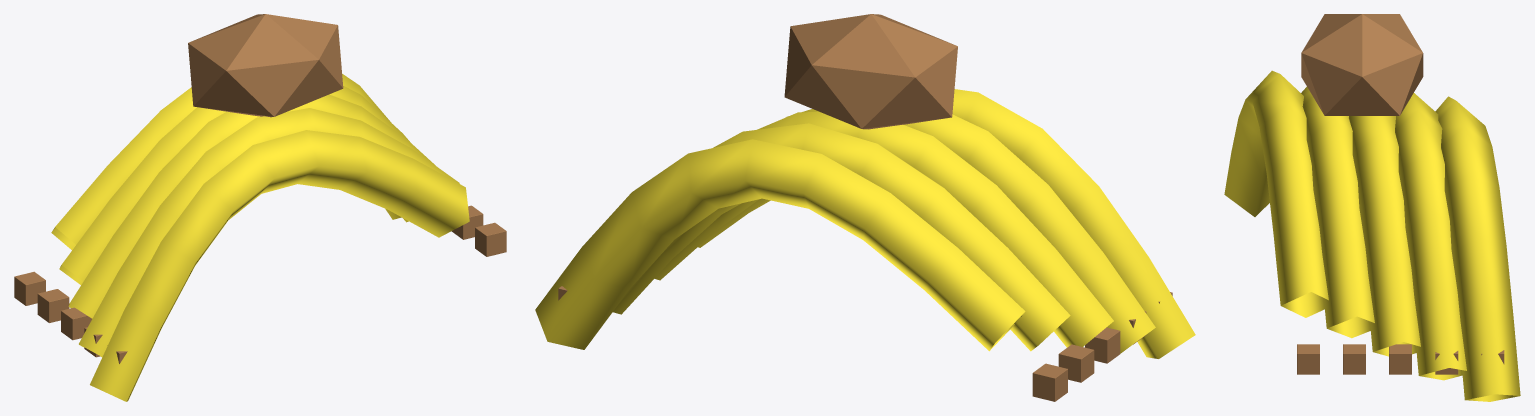
The model's file is banana-bunch.glb.
The picture shows the model from 3 angles, left to right: view 1: azimuth 30°, elevation 25°; view 2: azimuth 150°, elevation 25°; view 3: azimuth 270°, elevation 25°; orthographic projection. The views are drawn at different scales.
Parts seen in each view (by area): view 1: curved low poly banana, brown banana crown, curved low poly banana.001, curved low poly banana.002, curved low poly banana.003, curved low poly banana.004, banana dark tip.001, banana dark tip.006, banana dark tip.008, banana dark tip.004, banana dark tip.003; view 2: curved low poly banana.004, brown banana crown, curved low poly banana.003, curved low poly banana.002, curved low poly banana, curved low poly banana.001, banana dark tip.008, banana dark tip.006, banana dark tip.004; view 3: curved low poly banana.004, curved low poly banana, curved low poly banana.003, brown banana crown, curved low poly banana.002, curved low poly banana.001, banana dark tip.001, banana dark tip.003, banana dark tip.005.
Boxes of the visible parts, x1,y1,x2,y2 form: curved low poly banana: (90,130,469,401); brown banana crown: (188,14,343,117); curved low poly banana.001: (79,108,459,357); curved low poly banana.002: (68,94,435,318); curved low poly banana.003: (59,85,409,284); curved low poly banana.004: (51,73,401,249); banana dark tip.001: (475,222,506,256); banana dark tip.006: (37,289,69,322); banana dark tip.008: (14,271,45,305); banana dark tip.004: (61,307,91,340); banana dark tip.003: (451,205,483,239); curved low poly banana.004: (535,139,1025,351); brown banana crown: (784,14,957,129); curved low poly banana.003: (613,123,1070,351); curved low poly banana.002: (654,111,1113,347); curved low poly banana: (751,89,1195,358); curved low poly banana.001: (698,109,1155,353); banana dark tip.008: (1032,363,1067,401); banana dark tip.006: (1058,344,1094,382); banana dark tip.004: (1085,327,1120,363); curved low poly banana.004: (1435,96,1520,401); curved low poly banana: (1224,70,1328,317); curved low poly banana.003: (1395,93,1466,380); brown banana crown: (1301,14,1423,115); curved low poly banana.002: (1349,116,1420,356); curved low poly banana.001: (1301,87,1374,338); banana dark tip.001: (1297,344,1319,374); banana dark tip.003: (1343,344,1365,374); banana dark tip.005: (1389,344,1411,374).
Bounding box in the file's own units: 1.08 × 0.667 × 0.6055.
